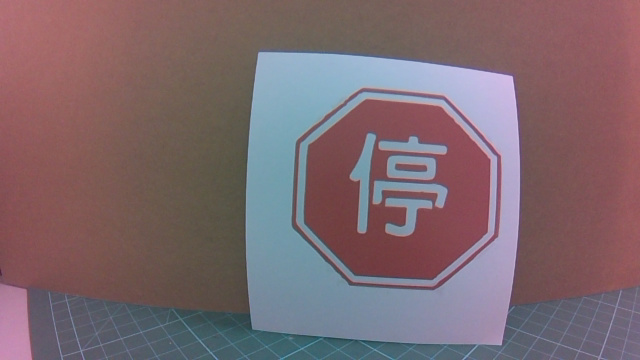stop: (316, 80, 502, 286)
